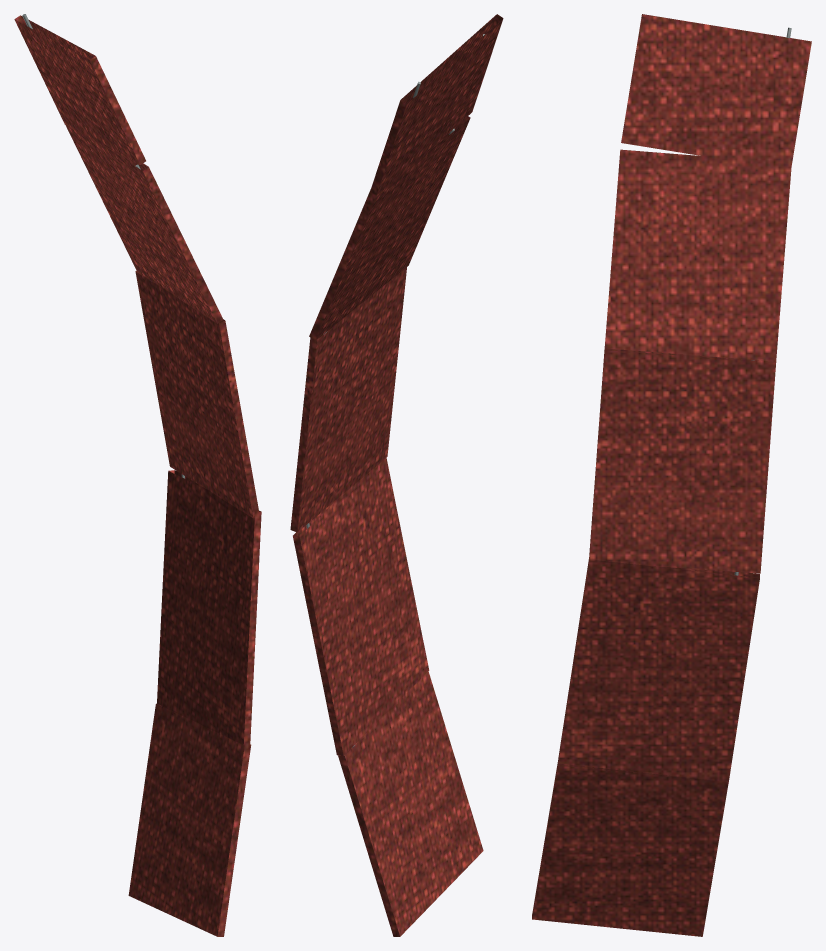
The model's file is flex_seat_forward_tail.fbx.
3 renders of one model, left to right at view 1: azimuth 30°, elevation 25°; view 2: azimuth 150°, elevation 25°; view 3: azimuth 270°, elevation 25°, orthographic. The views are drawn at different scales.
Visible parts, largest first — view 1: SM_flex_seat_forward_tail; view 2: SM_flex_seat_forward_tail; view 3: SM_flex_seat_forward_tail.
Part boxes in pixels (x1,y1,x2,y2): SM_flex_seat_forward_tail: [14, 14, 261, 936]; SM_flex_seat_forward_tail: [290, 14, 503, 936]; SM_flex_seat_forward_tail: [532, 14, 811, 936].
Bounding box in the file's own units: 0.0327 × 0.188 × 0.0536.
2 materials, 2 textured.
